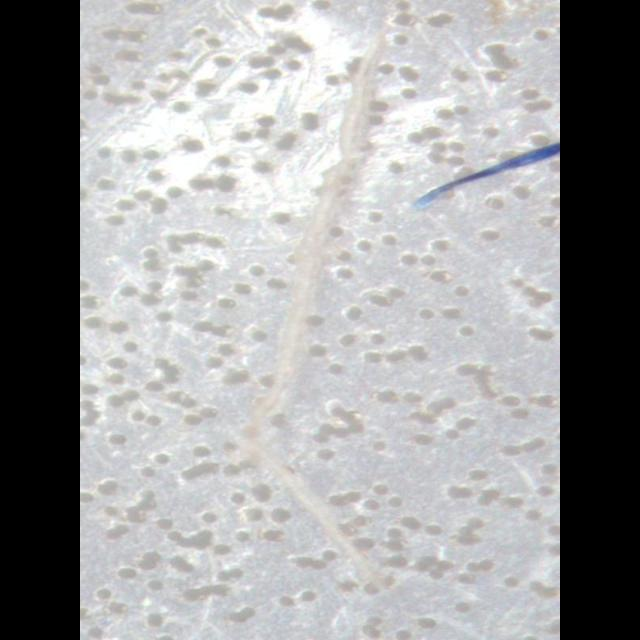Fibre: (228, 0, 418, 630)
